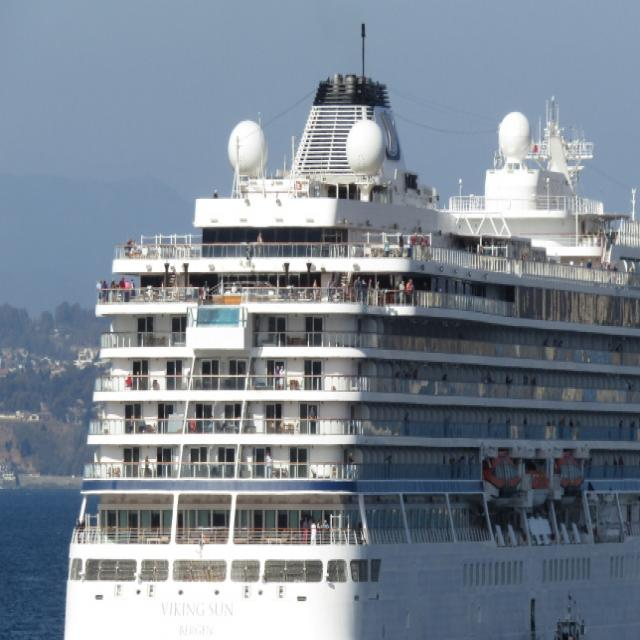cruises: (39, 20, 640, 640)
